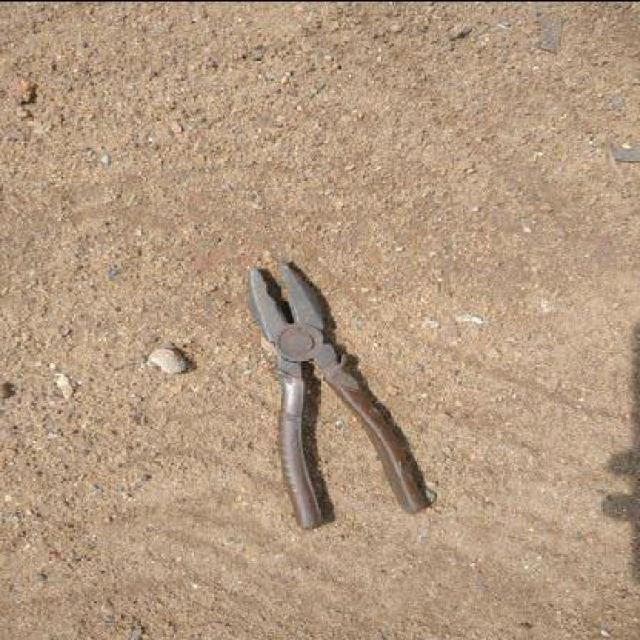pliers: (242, 257, 436, 534)
